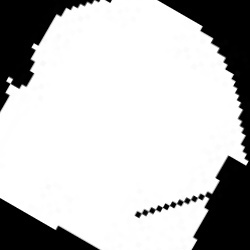spot: (0, 1, 248, 249)
